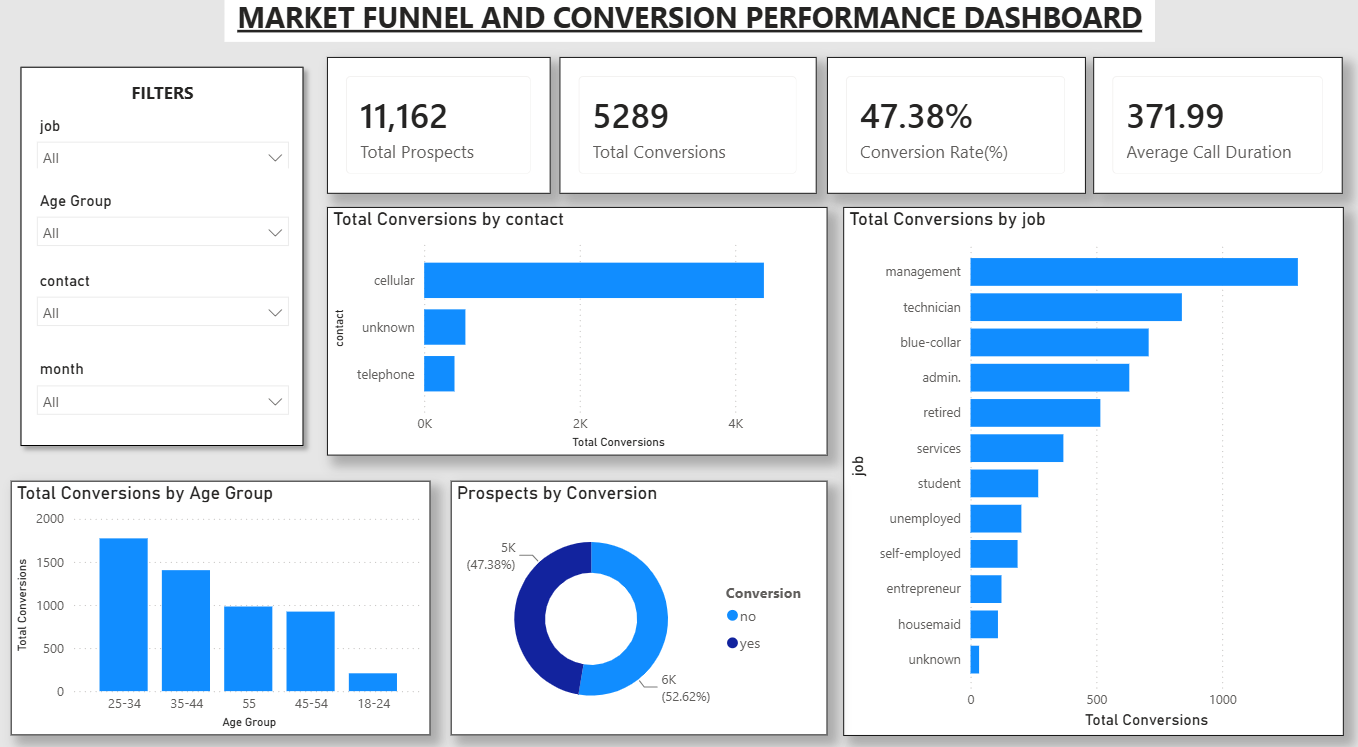

The dashboard page shown, as its layout file describes it:
{"tool":"powerbi","page":{"name":"Page 1","canvas":[1280,720],"ordinal":0},"visuals":[{"type":"shape","box":[12.8,60.5,281.4,370.9],"z":0},{"type":"cardVisual","fields":{"Data":["bank.Total Prospects"]},"box":[307.1,60.7,208.3,127.4],"z":1000},{"type":"cardVisual","fields":{"Data":["bank.Total Conversions"]},"box":[523.8,60.7,239.3,127.4],"z":2000},{"type":"cardVisual","fields":{"Data":["bank.Conversion Rate"]},"box":[772.6,60.7,240.5,127.4],"z":3000},{"type":"cardVisual","fields":{"Data":["bank.Average Call Duration"]},"box":[1020.2,60.7,232.1,127.4],"z":4000},{"type":"barChart","fields":{"Category":["bank.contact"],"Y":["bank.Total Conversions"]},"box":[307.1,200,465.5,231],"z":5000},{"type":"barChart","fields":{"Y":["bank.Total Conversions"],"Category":["bank.job"]},"box":[786.9,200,465.5,491.7],"z":6000},{"type":"columnChart","fields":{"Category":["bank.Age Group"],"Y":["bank.Total Conversions"]},"box":[13.1,454.8,390.5,236.9],"z":7000},{"type":"donutChart","fields":{"Y":["bank.Prospects"],"Category":["bank.deposit"]},"box":[422.6,454.8,350,236.9],"z":8000},{"type":"textbox","box":[211.9,0,865.5,46.4],"z":9000},{"type":"slicer","fields":{"Values":["bank.job"]},"box":[26.2,110.7,254.8,53.6],"z":10000},{"type":"slicer","fields":{"Values":["bank.contact"]},"box":[26.2,254.8,254.8,70.2],"z":11000},{"type":"slicer","fields":{"Values":["bank.Age Group"]},"box":[26.2,179.8,254.8,65.5],"z":12000},{"type":"slicer","fields":{"Values":["bank.month"]},"box":[26.2,336.9,254.8,61.9],"z":13000},{"type":"textbox","box":[26.2,76.2,254.8,34.5],"z":14000}]}

Visuals, with their boxes in screenshot pixels (x1, y1, x2, y2), scaled from the page's 1280x720 canvas onto the 1358x747 screenshot:
shape: bbox(14, 63, 312, 448)
cardVisual - bank.Total Prospects: bbox(326, 63, 547, 195)
cardVisual - bank.Total Conversions: bbox(556, 63, 810, 195)
cardVisual - bank.Conversion Rate: bbox(820, 63, 1075, 195)
cardVisual - bank.Average Call Duration: bbox(1082, 63, 1329, 195)
barChart - bank.contact x bank.Total Conversions: bbox(326, 208, 820, 447)
barChart - bank.Total Conversions x bank.job: bbox(835, 208, 1329, 718)
columnChart - bank.Age Group x bank.Total Conversions: bbox(14, 472, 428, 718)
donutChart - bank.Prospects x bank.deposit: bbox(448, 472, 820, 718)
textbox: bbox(225, 0, 1143, 48)
slicer - bank.job: bbox(28, 115, 298, 170)
slicer - bank.contact: bbox(28, 264, 298, 337)
slicer - bank.Age Group: bbox(28, 187, 298, 254)
slicer - bank.month: bbox(28, 350, 298, 414)
textbox: bbox(28, 79, 298, 115)
